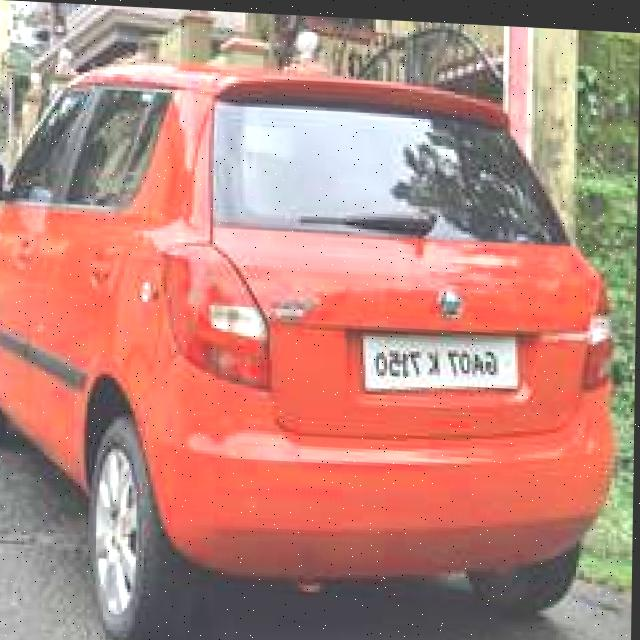plate: (363, 322, 519, 394)
